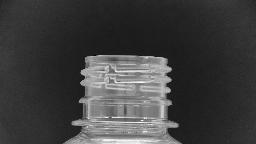No Cap: (66, 48, 182, 130)
